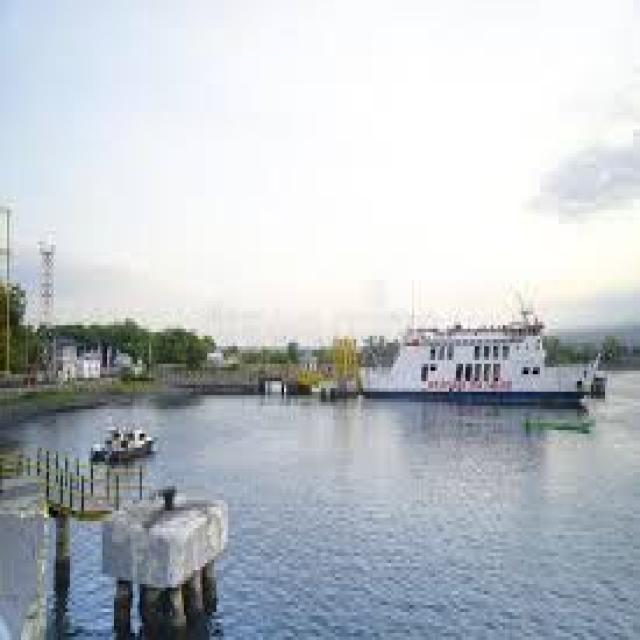passenger ship: (354, 301, 596, 401)
